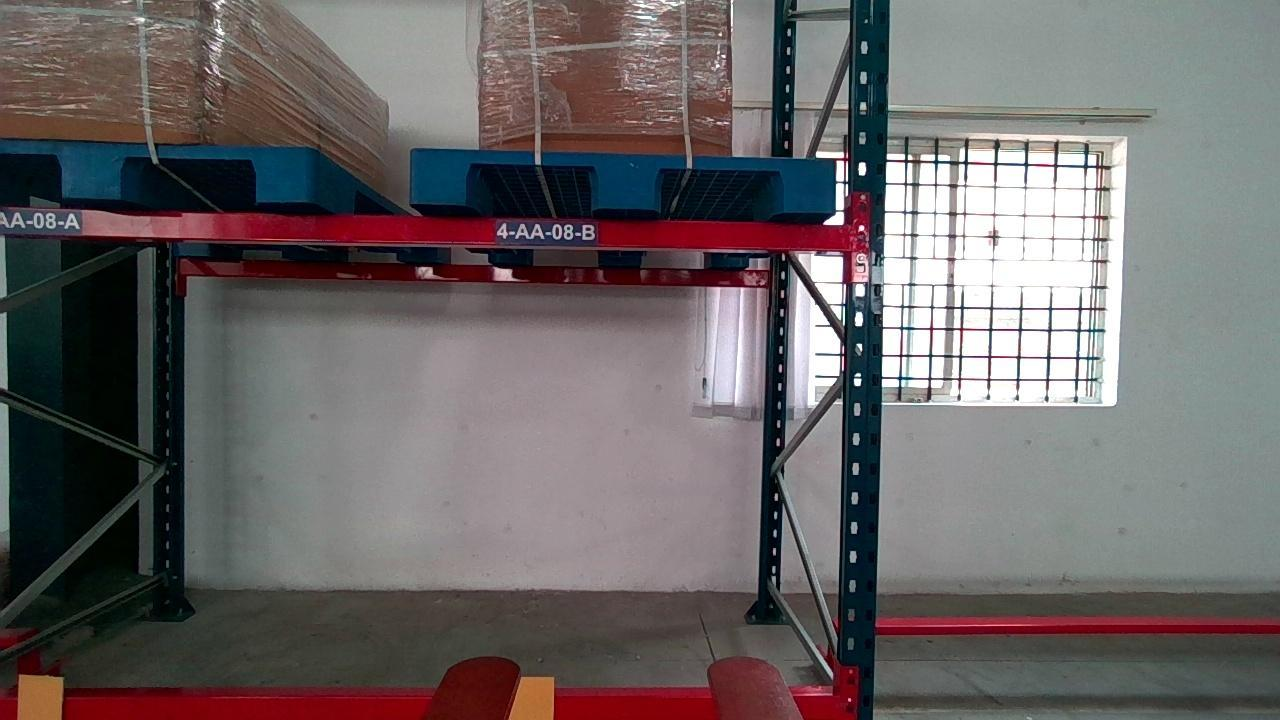h_rack: (3, 209, 854, 248), (1, 695, 835, 718)
orange_strip: (508, 677, 558, 720), (17, 674, 62, 720)
small_pallet: (411, 146, 833, 218), (6, 139, 313, 214)
